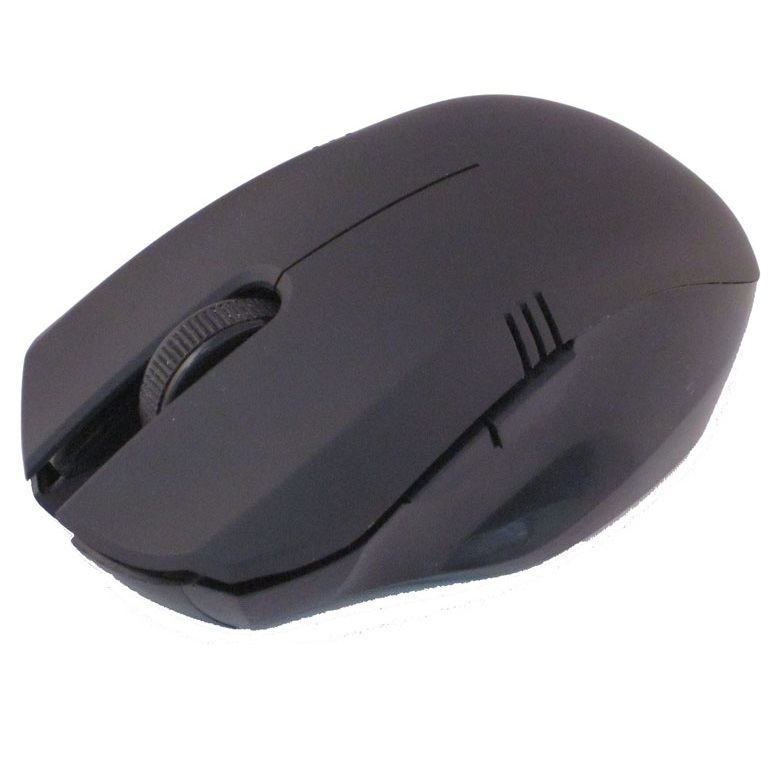Mouse: (16, 84, 763, 646)
